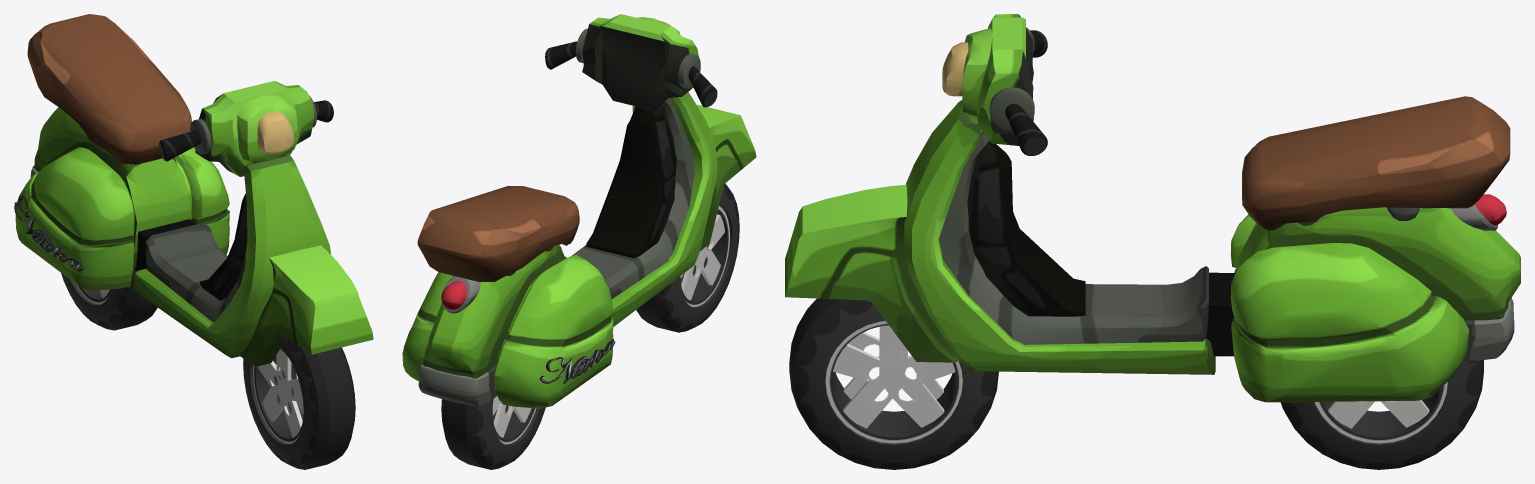
The model's file is scooter.glb.
3 renders of one model, left to right at view 1: azimuth 30°, elevation 25°; view 2: azimuth 150°, elevation 25°; view 3: azimuth 270°, elevation 25°, orthographic. The views are drawn at different scales.
Visible parts, largest first — view 1: Object_4, Object_12, Object_24; view 2: Object_4, Object_12, Object_24; view 3: Object_4, Object_12.
Boxes of the visible parts, <box> form: Object_4: <box>15,14,373,366</box>; Object_12: <box>61,269,355,469</box>; Object_24: <box>14,196,83,271</box>; Object_4: <box>402,14,756,408</box>; Object_12: <box>441,184,739,469</box>; Object_24: <box>539,339,615,383</box>; Object_4: <box>785,14,1520,402</box>; Object_12: <box>789,298,1483,469</box>.
Size of the model in its own units: 0.6404 by 1.21 by 1.88.
3 materials, 3 textured.
